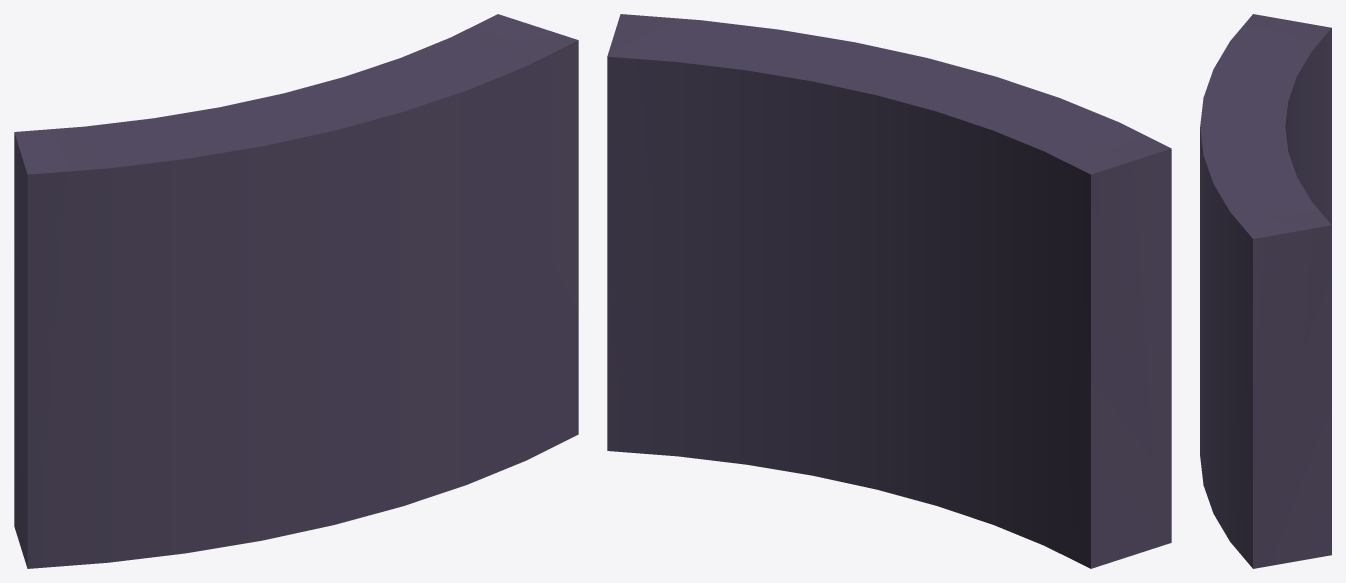
The model's file is Inner_02.fbx.
The picture shows the model from 3 angles, left to right: view 1: azimuth 30°, elevation 25°; view 2: azimuth 150°, elevation 25°; view 3: azimuth 270°, elevation 25°; orthographic projection. The views are drawn at different scales.
Visible parts, largest first — view 1: Inner_02; view 2: Inner_02; view 3: Inner_02.
Boxes of the visible parts, x1,y1,x2,y2 form: Inner_02: [14, 14, 578, 568]; Inner_02: [607, 14, 1171, 568]; Inner_02: [1200, 14, 1331, 568].
Bounding box in the file's own units: 50.8 × 34.73 × 12.56.
